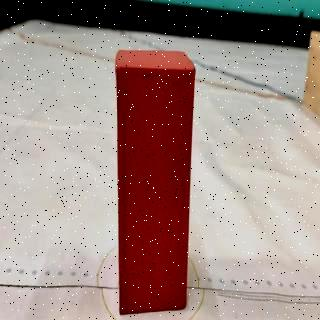redbox: (114, 48, 195, 313)
